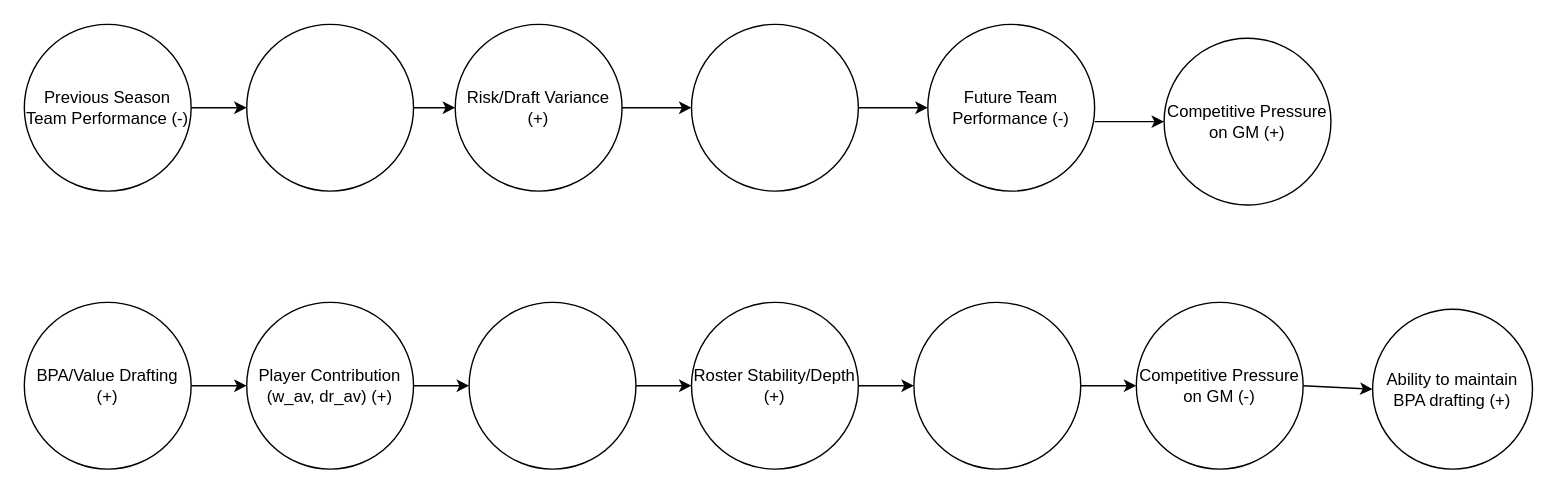
Some shapes in this 1557 by 493 pixel diagram are drawn without their labels. Each missing label, with the centre of its shape:
Future Team Performance (+): (x=997, y=385)
Roster Stability (-): (x=774, y=107)
Salary Cap Efficiency (+): (x=552, y=385)
Short-Term Impact Drafting (+): (x=329, y=107)
